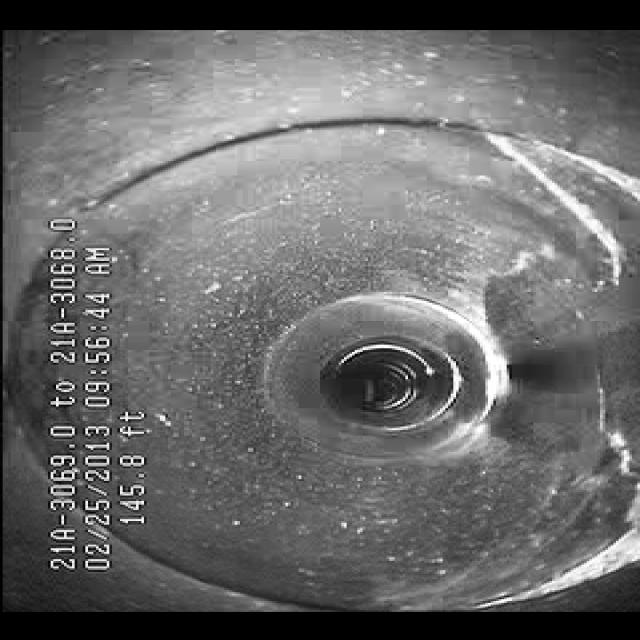Crack: (475, 134, 629, 272)
